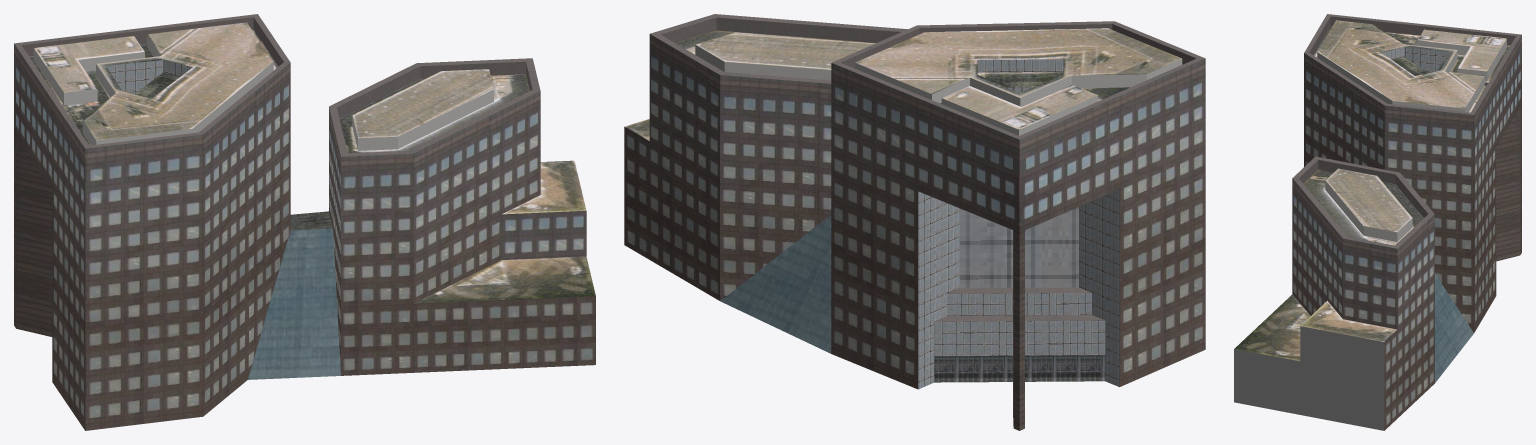
Rendered from London,-No.dae.
The picture shows the model from 3 angles, left to right: view 1: azimuth 30°, elevation 25°; view 2: azimuth 150°, elevation 25°; view 3: azimuth 270°, elevation 25°; orthographic projection. The views are drawn at different scales.
Visible parts, largest first — view 1: SketchUp (×20); view 2: SketchUp (×19); view 3: SketchUp (×21).
Part boxes in pixels (x1,y1,x2,y2): SketchUp (×20): (14,14,595,430); SketchUp (×19): (624,14,1205,430); SketchUp (×21): (1234,14,1521,430).
Size of the model in its own units: 3919 by 2398 by 2008.
20 materials, 19 textured.
